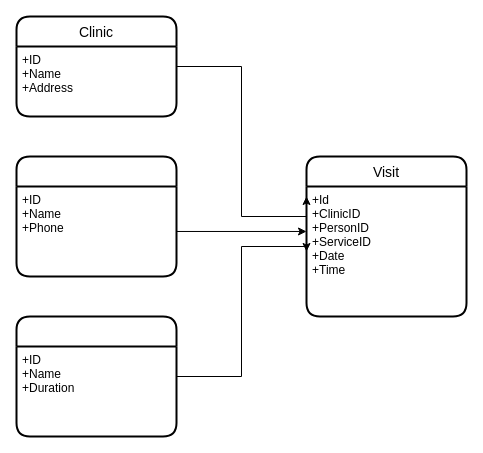
Image size: 483x453. Some labels were removed from this diagram. The box of each missing label's shape, as (x1, y1, x2, y2) in pixels:
Person: (15, 155, 177, 277)
Service: (15, 315, 177, 437)
